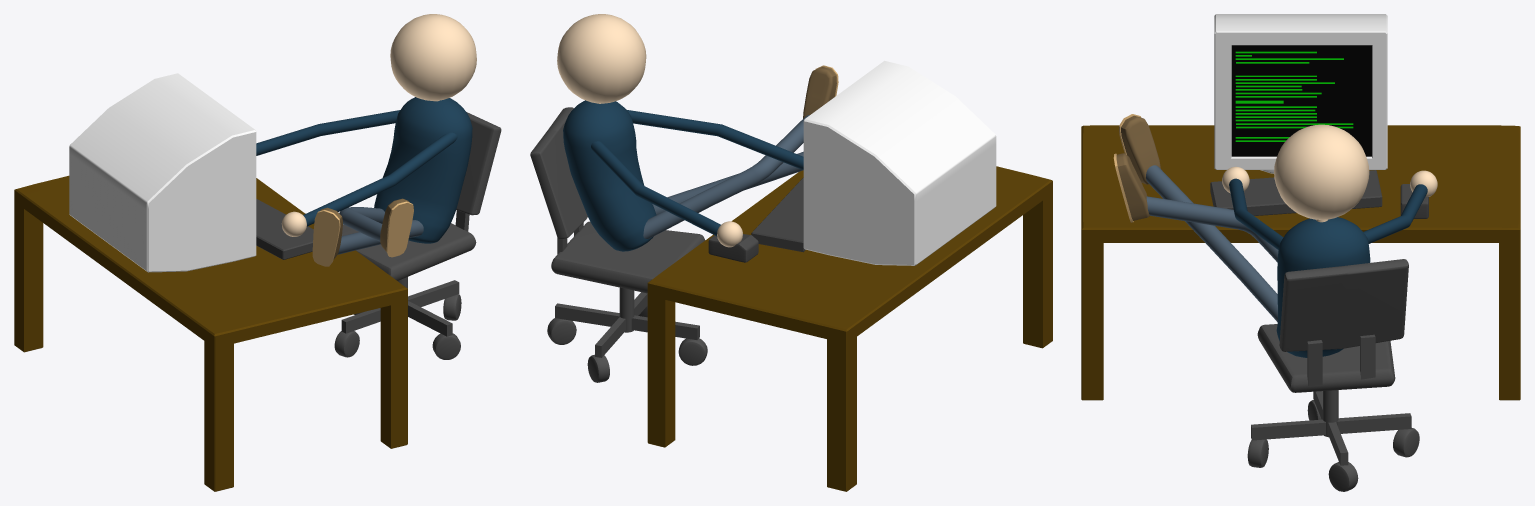
File: Simon_3D_Caractere.gltf
3 renders of one model, left to right at view 1: azimuth 30°, elevation 25°; view 2: azimuth 150°, elevation 25°; view 3: azimuth 270°, elevation 25°, orthographic. The views are drawn at different scales.
Parts seen in each view (by area): view 1: Node #0, Node #1, Node #50, Node #47, Node #32, Node #29, Node #45, Node #3, Node #46, Node #52, Node #56, Node #54 (+6 smaller); view 2: Node #0, Node #1, Node #50, Node #47, Node #32, Node #29, Node #54, Node #45, Node #3, Node #46, Node #55, Node #38 (+7 smaller); view 3: Node #0, Node #2, Node #1, Node #29, Node #47, Node #50, Node #32, Node #44, Node #3, Node #54, Node #53, Node #35 (+13 smaller).
Boxes of the visible parts, <box> form: Node #0: <box>14,175,407,491</box>; Node #1: <box>69,73,256,272</box>; Node #50: <box>374,97,472,243</box>; Node #47: <box>390,14,476,100</box>; Node #32: <box>342,223,476,280</box>; Node #29: <box>456,112,501,215</box>; Node #45: <box>303,132,457,226</box>; Node #3: <box>256,199,313,259</box>; Node #46: <box>256,110,400,155</box>; Node #52: <box>312,210,340,266</box>; Node #56: <box>386,201,413,257</box>; Node #54: <box>339,207,384,241</box>; Node #0: <box>647,166,1052,491</box>; Node #1: <box>803,60,996,265</box>; Node #50: <box>563,100,656,251</box>; Node #47: <box>557,14,646,103</box>; Node #32: <box>551,221,705,293</box>; Node #29: <box>530,107,587,238</box>; Node #54: <box>643,115,809,238</box>; Node #45: <box>627,110,803,169</box>; Node #3: <box>751,177,805,252</box>; Node #46: <box>591,141,720,236</box>; Node #55: <box>803,67,836,118</box>; Node #38: <box>555,303,619,326</box>; Node #0: <box>1081,125,1520,400</box>; Node #2: <box>1231,45,1371,156</box>; Node #1: <box>1214,14,1387,169</box>; Node #29: <box>1279,259,1408,351</box>; Node #47: <box>1274,124,1369,219</box>; Node #50: <box>1276,217,1370,357</box>; Node #32: <box>1257,324,1395,392</box>; Node #44: <box>1146,165,1277,321</box>; Node #3: <box>1210,170,1382,215</box>; Node #54: <box>1146,196,1278,262</box>; Node #53: <box>1121,115,1160,184</box>; Node #35: <box>1251,419,1325,440</box>.
Bounding box in the file's own units: 10.27 × 7.99 × 9.21.
